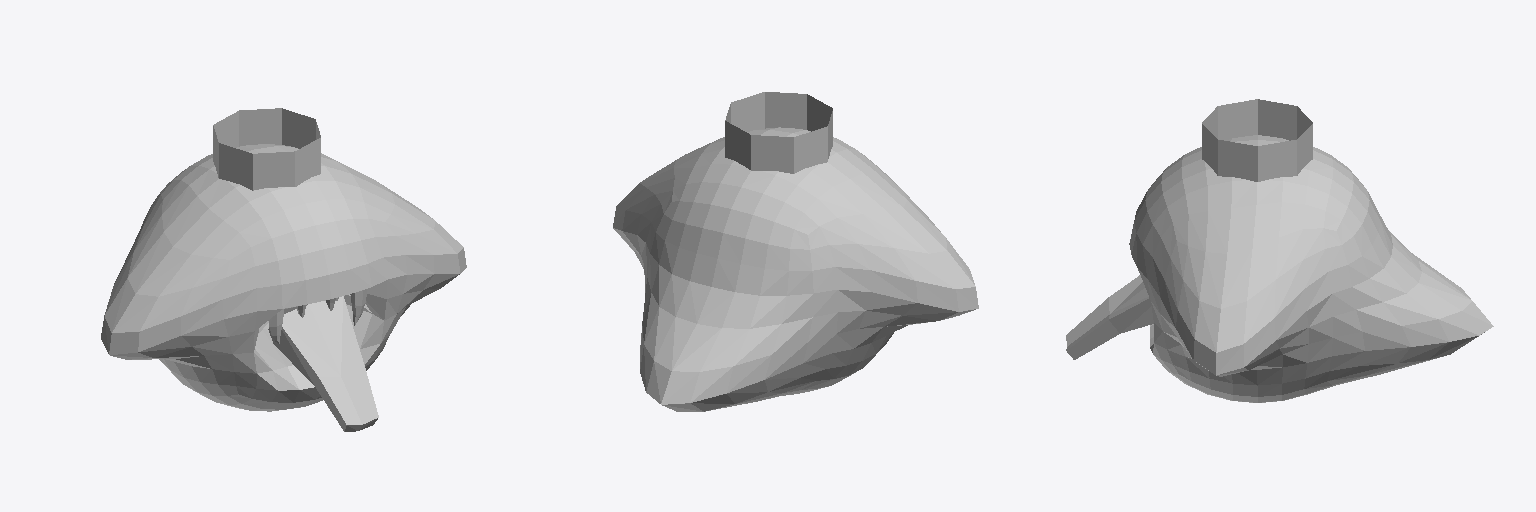
The model's file is oildrum.obj.
3 renders of one model, left to right at view 1: azimuth 30°, elevation 25°; view 2: azimuth 150°, elevation 25°; view 3: azimuth 270°, elevation 25°, orthographic.
Visible parts, largest first — view 1: Cube_Cube.001, Cube.001_Cube; view 2: Cube_Cube.001, Cube.001_Cube; view 3: Cube_Cube.001, Cube.001_Cube.
Part boxes in pixels (left/top/right/bottom): Cube_Cube.001: left=101, top=144, right=466, bottom=431; Cube.001_Cube: left=213, top=108, right=320, bottom=190; Cube_Cube.001: left=613, top=127, right=978, bottom=411; Cube.001_Cube: left=725, top=92, right=832, bottom=173; Cube_Cube.001: left=1066, top=135, right=1493, bottom=402; Cube.001_Cube: left=1202, top=99, right=1312, bottom=181.
Bounding box in the file's own units: 2.62 × 1.86 × 2.71.